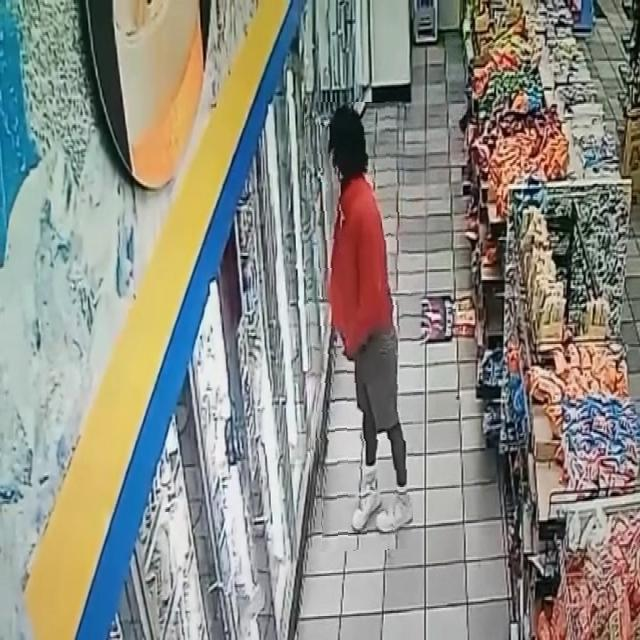Shoplifting: (307, 102, 413, 551)
